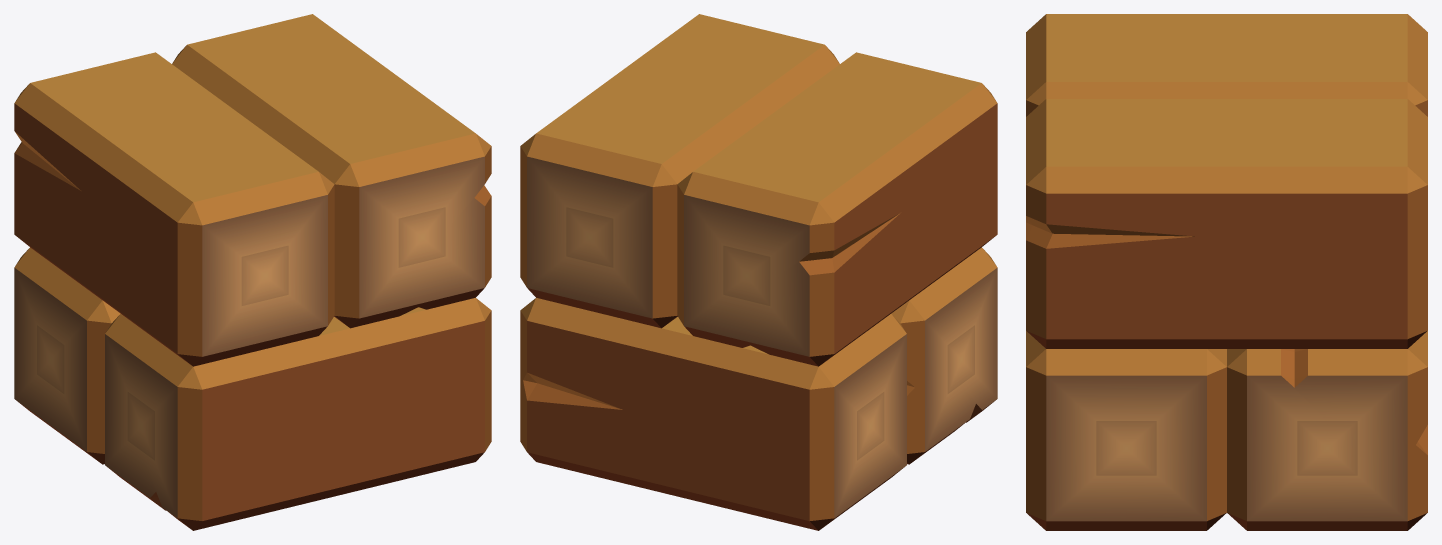
Rendered from m_kub_wood_brickPile.FBX.
3 renders of one model, left to right at view 1: azimuth 30°, elevation 25°; view 2: azimuth 150°, elevation 25°; view 3: azimuth 270°, elevation 25°, orthographic. The views are drawn at different scales.
Parts seen in each view (by area): view 1: m_kub_wood_brickPile; view 2: m_kub_wood_brickPile; view 3: m_kub_wood_brickPile.
Boxes of the visible parts, box(x1,y1,x2,y2) form: m_kub_wood_brickPile: box(14, 14, 491, 530); m_kub_wood_brickPile: box(520, 14, 997, 530); m_kub_wood_brickPile: box(1026, 14, 1427, 530).
Bounding box in the file's own units: 2 × 2 × 2.
